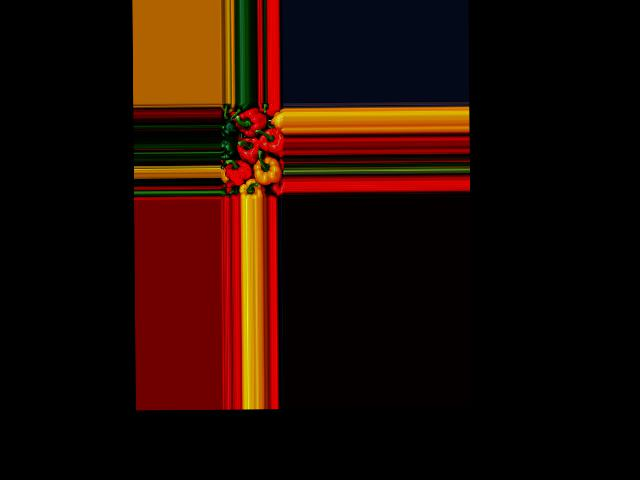bell_pepper: (271, 111, 284, 128)
